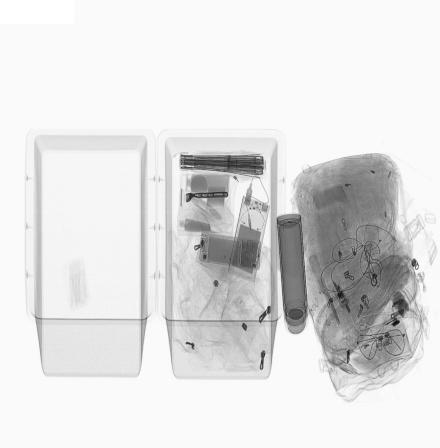Powerbank: (226, 194, 271, 286)
